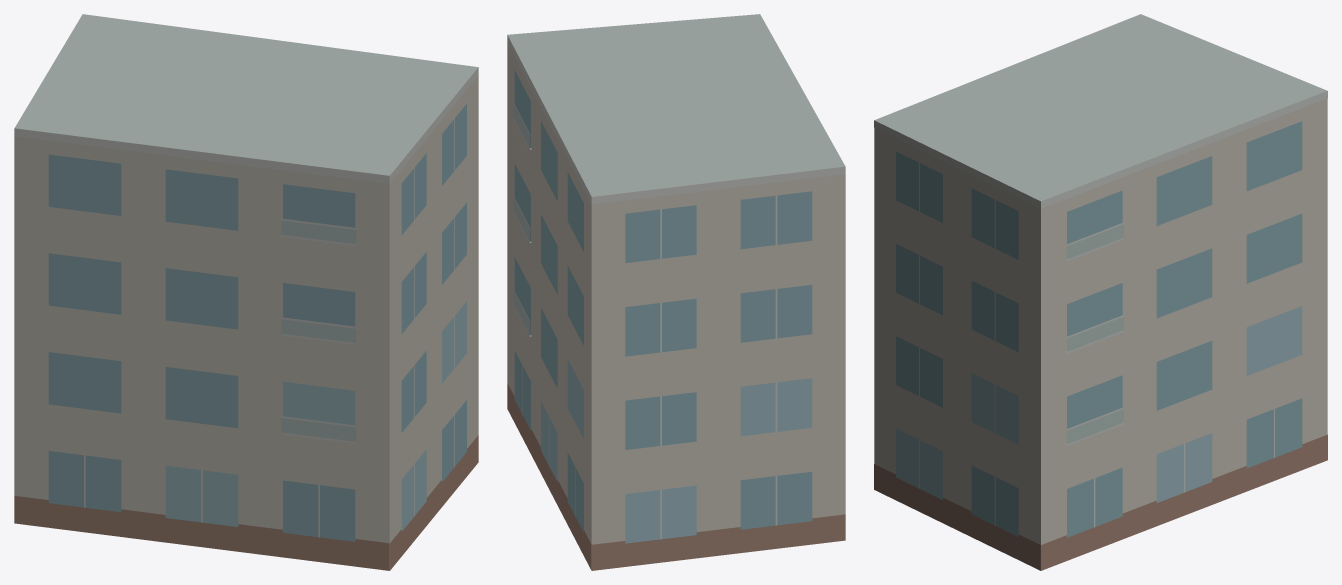
Rendered from survey-upis-32923163.glb.
3 views of the same model, side by side, from view 1: azimuth 30°, elevation 25°; view 2: azimuth 150°, elevation 25°; view 3: azimuth 270°, elevation 25° (orthographic). The views are drawn at different scales.
Visible parts, largest first — view 1: survey-upis-32923163.tmp; view 2: survey-upis-32923163.tmp; view 3: survey-upis-32923163.tmp.
Boxes of the visible parts, x1,y1,x2,y2 form: survey-upis-32923163.tmp: (14, 14, 478, 570); survey-upis-32923163.tmp: (507, 14, 845, 570); survey-upis-32923163.tmp: (874, 14, 1327, 570).
Bounding box in the file's own units: 13.28 × 12.2 × 13.58.
